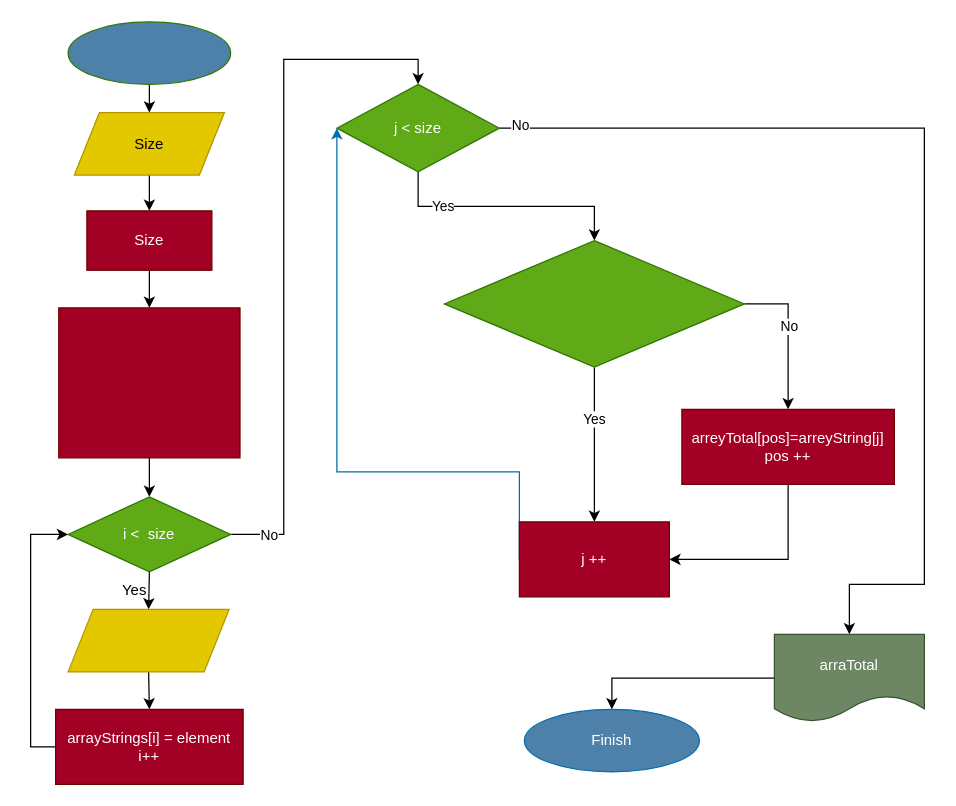
This 956x806 diagram has some shape labels left out. The shapes that lost their labels are listed below. From the top down, each one's box as (x1, y1, x2, y2) in pixels, then its label:
(67, 21, 231, 84): Start
(443, 239, 744, 367): arreyString [j] . Length<=len
(58, 307, 240, 458): arrayString[size] arreyTotal[size] element i = 0 j = 0 len = 3 pos = 0
(67, 608, 229, 672): element
